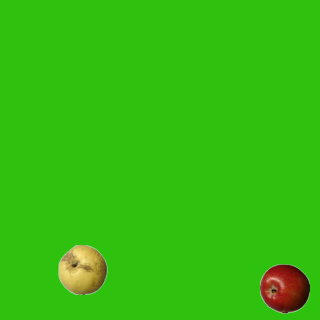Apple Braeburn: (259, 263, 309, 313)
Apple Golden 1: (57, 244, 107, 294)
